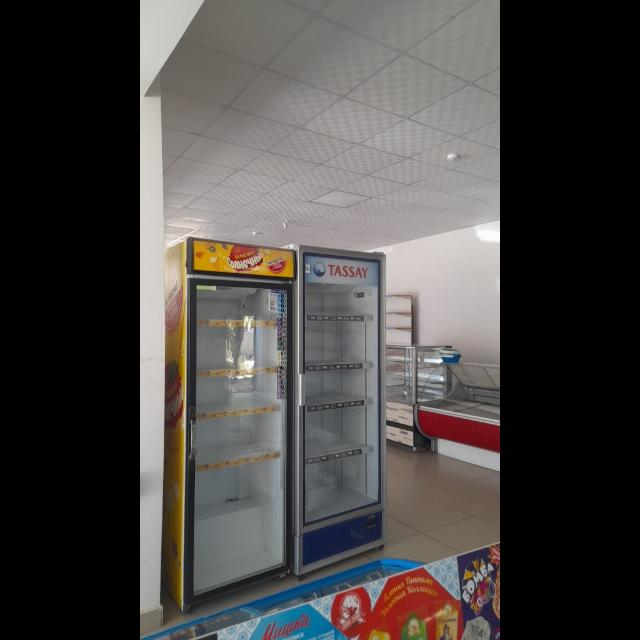Cooling-Display: (294, 242, 386, 576)
